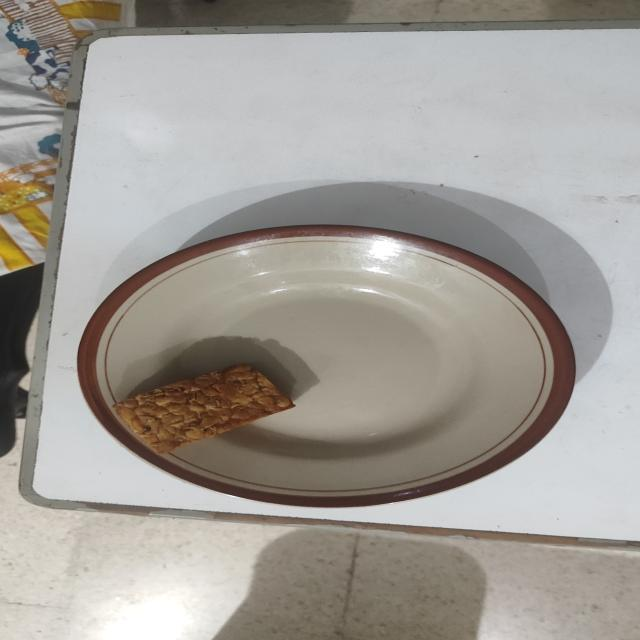tempe_goreng: (113, 364, 294, 454)
